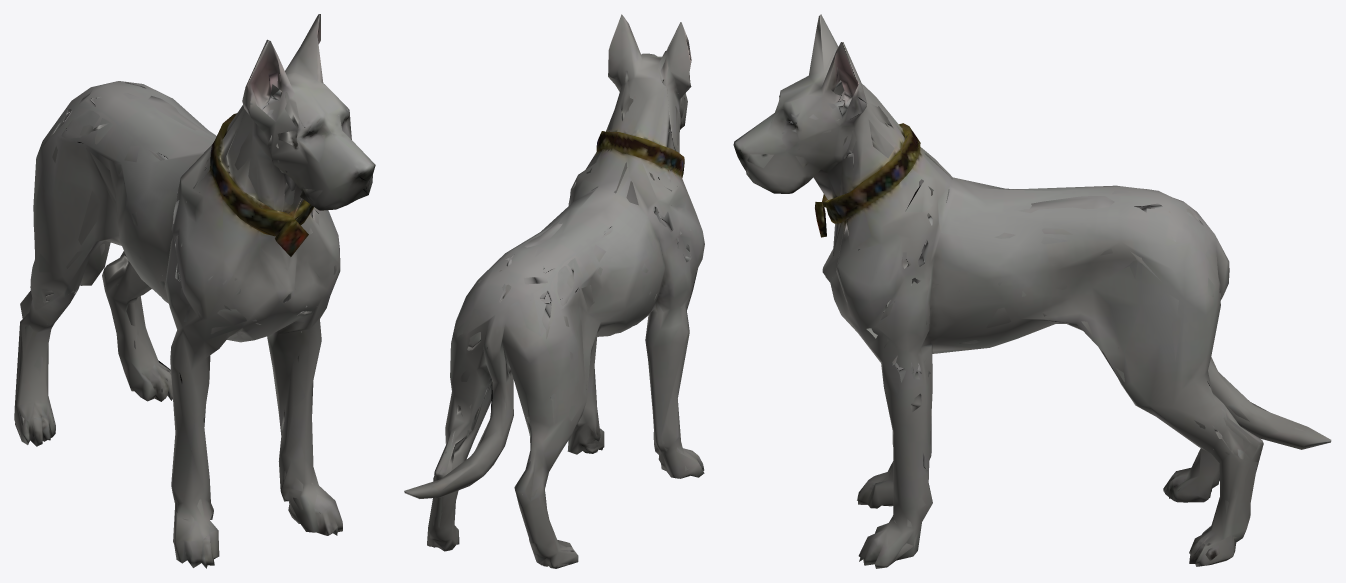
File: detail_13_lo.glb
3 renders of one model, left to right at view 1: azimuth 30°, elevation 25°; view 2: azimuth 150°, elevation 25°; view 3: azimuth 270°, elevation 25°, orthographic. The views are drawn at different scales.
Visible parts, largest first — view 1: Mesh_0.001; view 2: Mesh_0.001; view 3: Mesh_0.001.
Boxes of the visible parts, x1=… form: Mesh_0.001: x1=14, y1=14, x2=375, y2=568; Mesh_0.001: x1=404, y1=14, x2=704, y2=568; Mesh_0.001: x1=733, y1=14, x2=1331, y2=568.
Size of the model in its own units: 0.315 by 0.9371 by 0.9989.
1 material, 1 textured.
